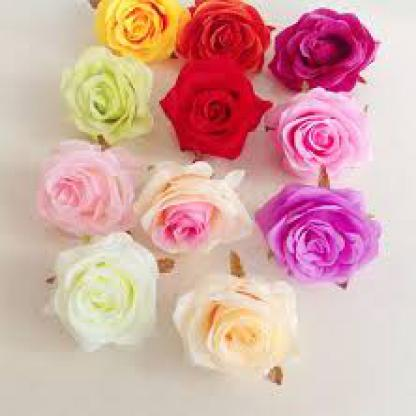Rose-Mawar: (35, 1, 387, 382)
